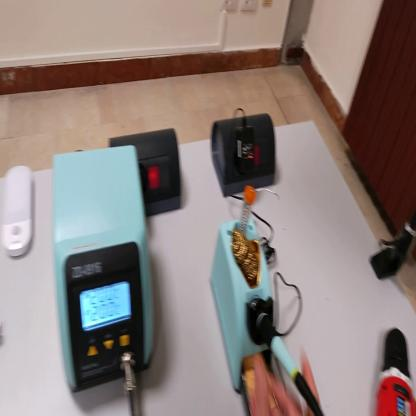electric screwdriver: (372, 318, 415, 415)
hand: (249, 345, 323, 415)
socket: (108, 126, 184, 215), (209, 108, 282, 198)
welder base: (208, 185, 285, 412)
welder probe tip: (253, 308, 320, 416)
welder station: (45, 139, 156, 402)
